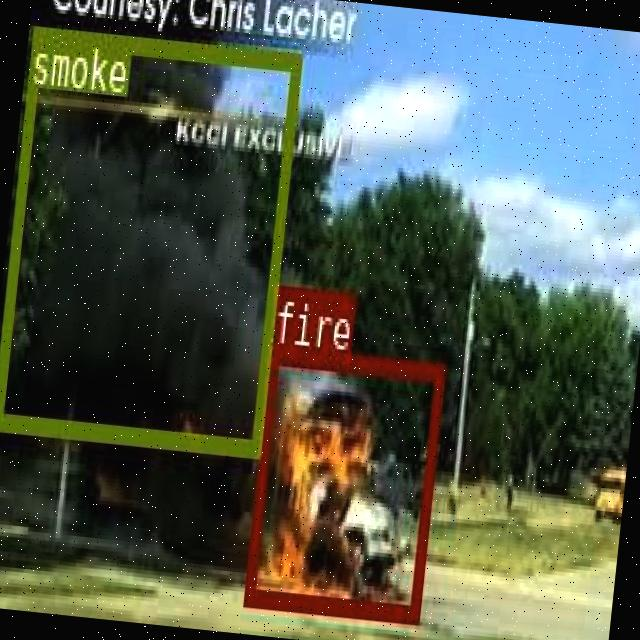fire: (242, 344, 443, 618)
smoke: (0, 23, 299, 454)
